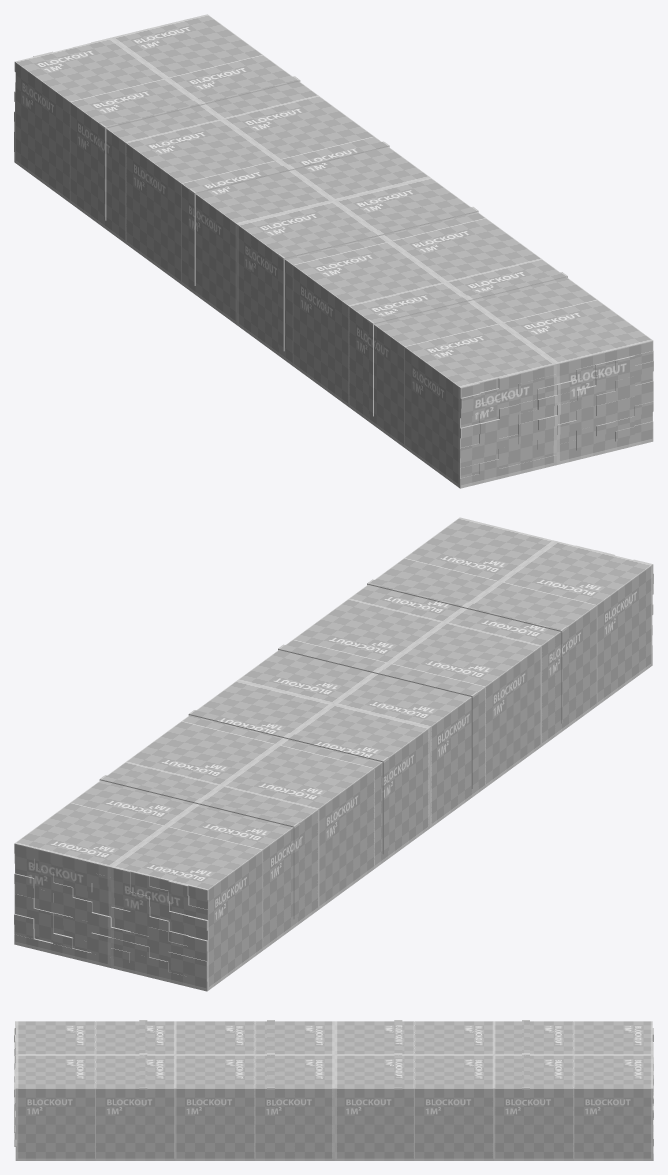
File: BoardsStackedBlockout.fbx
The picture shows the model from 3 angles, top to bottom: view 1: azimuth 30°, elevation 25°; view 2: azimuth 150°, elevation 25°; view 3: azimuth 270°, elevation 25°; orthographic projection. The views are drawn at different scales.
Parts seen in each view (by area): view 1: BoardsStackedBlockout; view 2: BoardsStackedBlockout; view 3: BoardsStackedBlockout.
Boxes of the visible parts, x1,y1,x2,y2 form: BoardsStackedBlockout: (14, 14, 653, 488); BoardsStackedBlockout: (14, 517, 653, 991); BoardsStackedBlockout: (14, 1020, 653, 1160).
Bounding box in the file's own units: 202 × 101 × 803.
